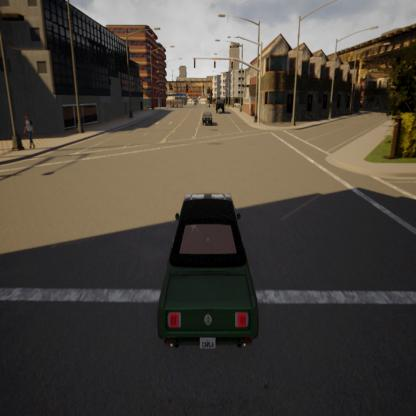Cars: (148, 182, 272, 364), (213, 88, 228, 119), (201, 107, 213, 131)
Pedestrian: (23, 112, 36, 157)
